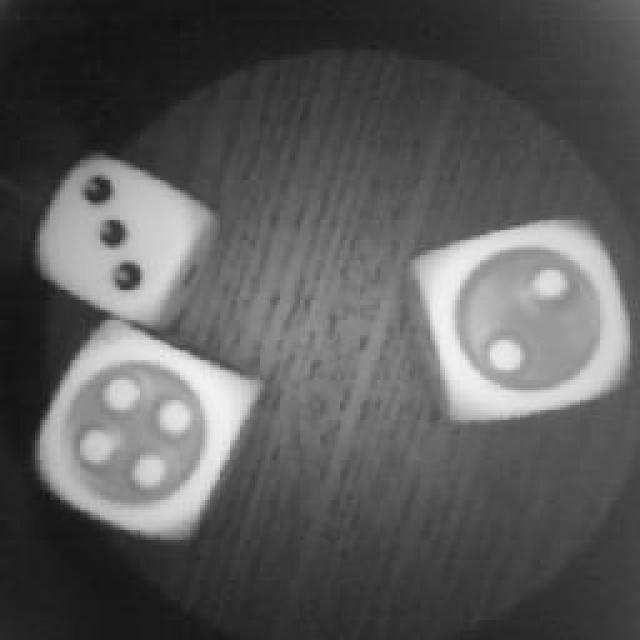dice_2: (413, 212, 635, 432)
dice_3: (33, 158, 215, 330)
dice_4: (30, 320, 265, 545)
